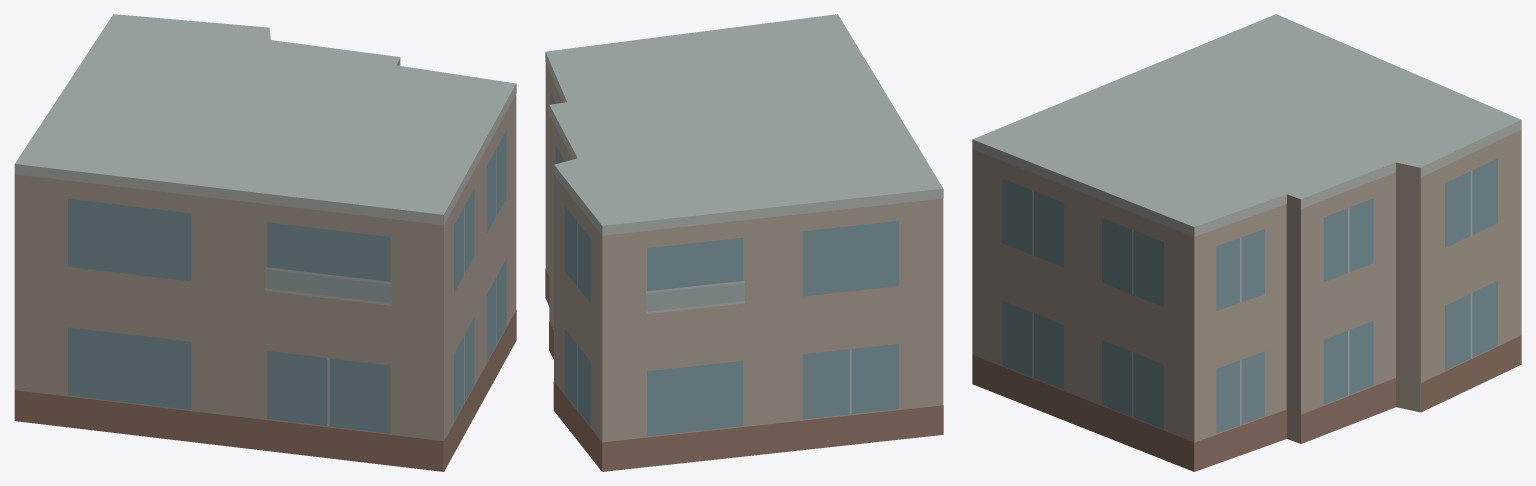
The model's file is survey-upis-32606337.glb.
3 views of the same model, side by side, from view 1: azimuth 30°, elevation 25°; view 2: azimuth 150°, elevation 25°; view 3: azimuth 270°, elevation 25° (orthographic). The views are drawn at different scales.
Visible parts, largest first — view 1: survey-upis-32606337.tmp; view 2: survey-upis-32606337.tmp; view 3: survey-upis-32606337.tmp.
Part boxes in pixels (bbox=[...]): survey-upis-32606337.tmp: bbox=[14, 14, 516, 471]; survey-upis-32606337.tmp: bbox=[545, 14, 943, 471]; survey-upis-32606337.tmp: bbox=[972, 14, 1521, 471].
Size of the model in its own units: 11.4 by 6.1 by 12.42.
